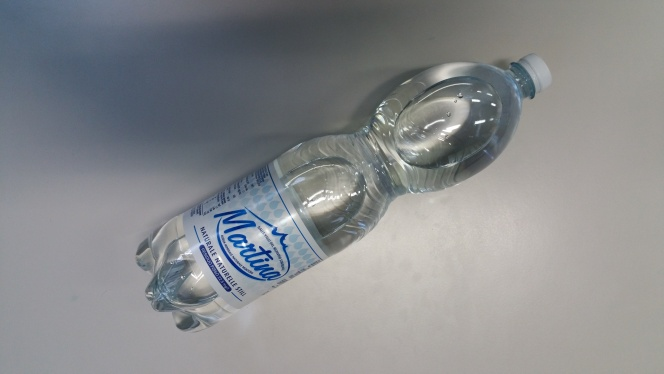bottle: (126, 48, 552, 333)
